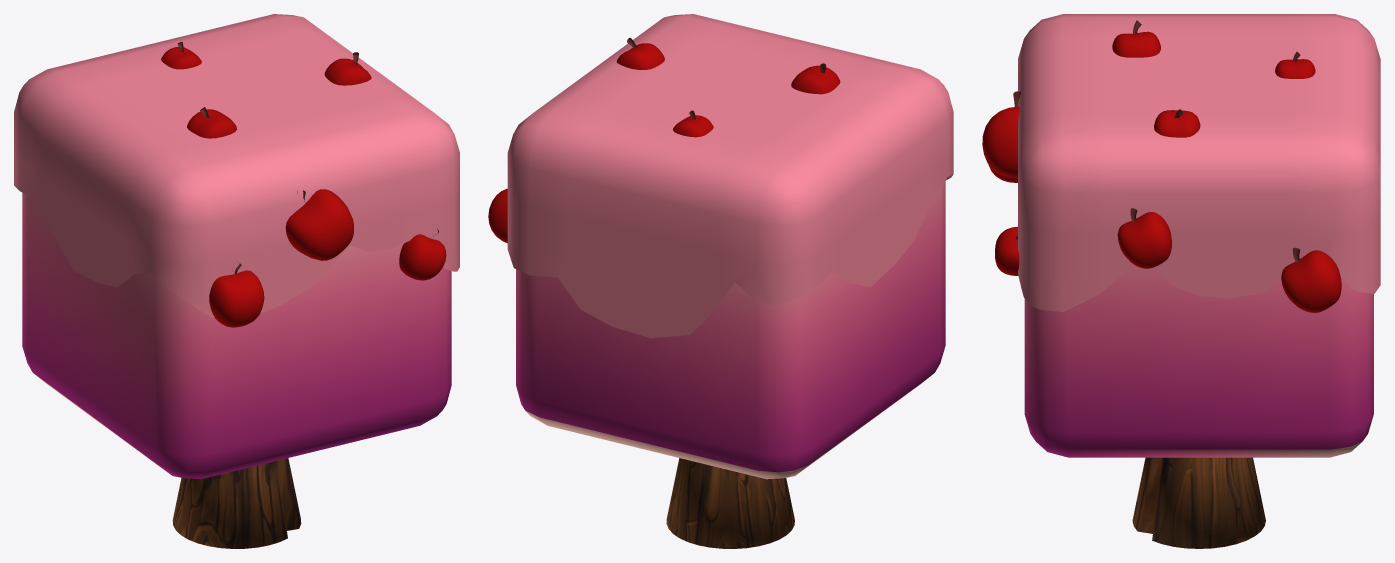
The model's file is _SilkyWoods_cay.fbx.
The picture shows the model from 3 angles, left to right: view 1: azimuth 30°, elevation 25°; view 2: azimuth 150°, elevation 25°; view 3: azimuth 270°, elevation 25°; orthographic projection. The views are drawn at different scales.
Visible parts, largest first — view 1: cay, Cube.004, Cube.003, Cube.005, Cube.009, Cube.007, Cube.010; view 2: cay, Cube.009, Cube.007, Cube.008, Cube.010; view 3: cay, Cube.008, Cube.006, Cube.004, Cube.009, Cube.007, Cube.005, Cube.010.
Part boxes in pixels (box(x1,y1,x2,y2)): cay: box(14, 14, 459, 548); Cube.004: box(285, 189, 353, 260); Cube.003: box(209, 261, 264, 327); Cube.005: box(399, 229, 446, 280); Cube.009: box(187, 107, 236, 138); Cube.007: box(324, 52, 371, 85); Cube.010: box(161, 42, 201, 69); cay: box(507, 14, 953, 548); Cube.009: box(791, 63, 840, 94); Cube.007: box(616, 38, 664, 69); Cube.008: box(488, 188, 507, 243); Cube.010: box(673, 110, 713, 137); cay: box(1018, 14, 1380, 548); Cube.008: box(1281, 247, 1341, 312); Cube.006: box(1117, 208, 1171, 268); Cube.004: box(982, 91, 1020, 178); Cube.009: box(1112, 20, 1160, 57); Cube.007: box(1154, 109, 1200, 137); Cube.005: box(995, 226, 1019, 275); Cube.010: box(1275, 52, 1315, 78).
Bounding box in the file's own units: 228 × 296 × 228.
Materials: 3 (3 with a texture image).
